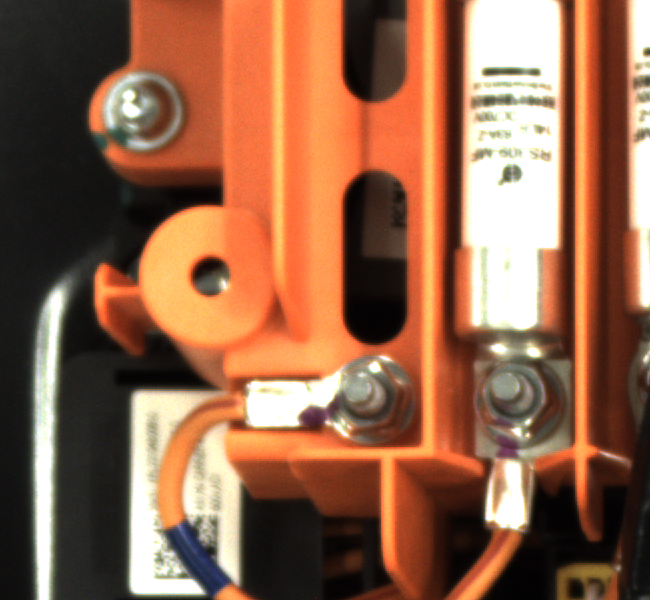screw_m: (87, 63, 198, 166)
screw_s: (313, 349, 423, 455), (468, 358, 574, 461)
